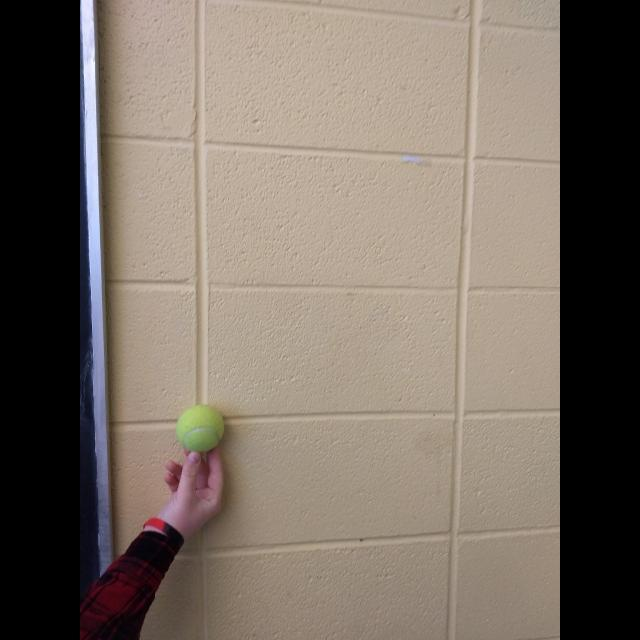tennis-ball: (174, 404, 226, 454)
